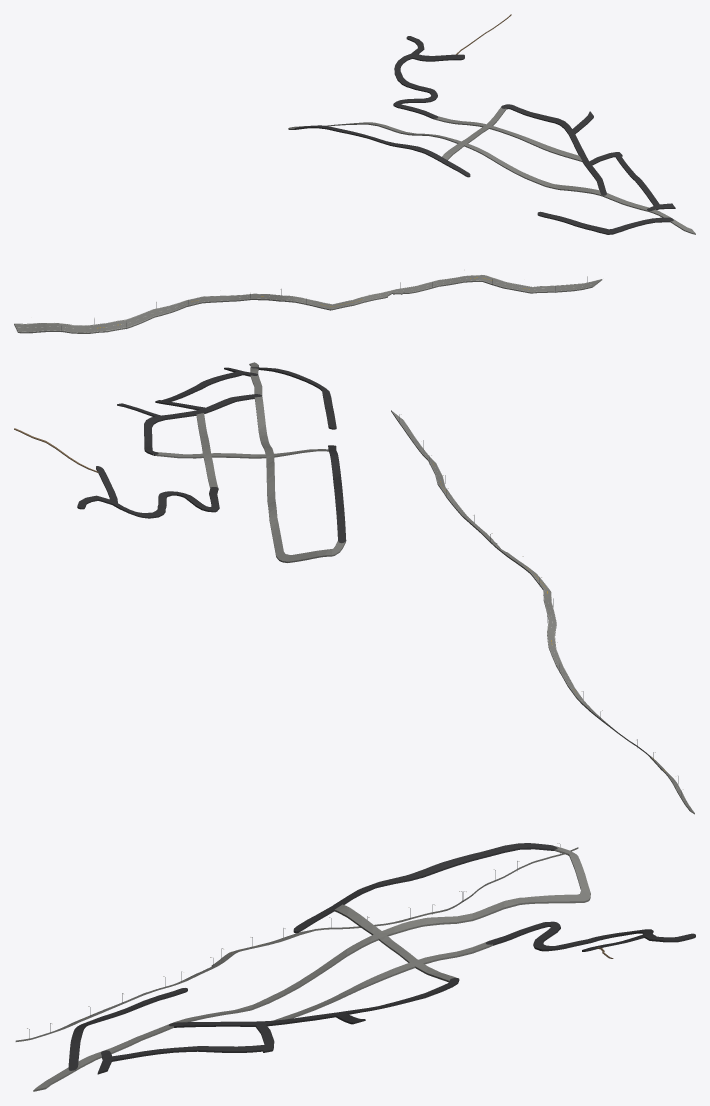
The picture shows the model from 3 angles, top to bottom: view 1: azimuth 30°, elevation 25°; view 2: azimuth 150°, elevation 25°; view 3: azimuth 270°, elevation 25°; orthographic projection. The views are drawn at different scales.
Size of the model in its own units: 589 by 203 by 435.
